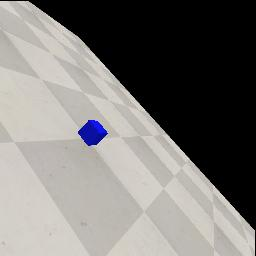box: (78, 120, 108, 146)
